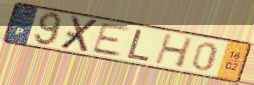0: (190, 42, 222, 72)
9: (32, 11, 65, 47)
E: (90, 22, 133, 58)
H: (153, 32, 195, 69)
L: (124, 28, 152, 63)
X: (57, 15, 101, 54)
